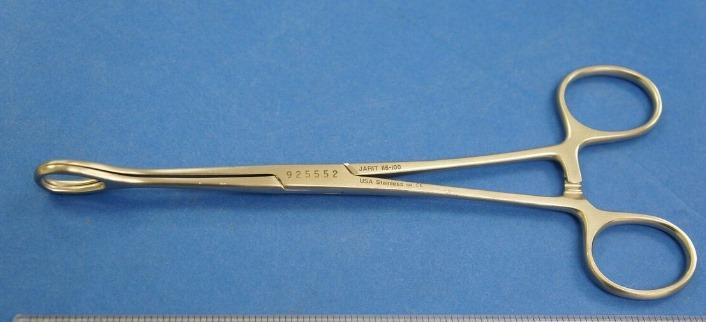Sponge Holding Forceps: (31, 62, 702, 304)
